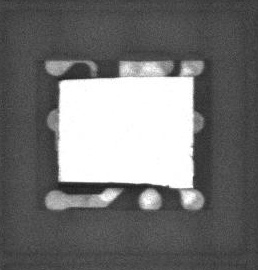DIE_BROKEN: (58, 181, 171, 188)
